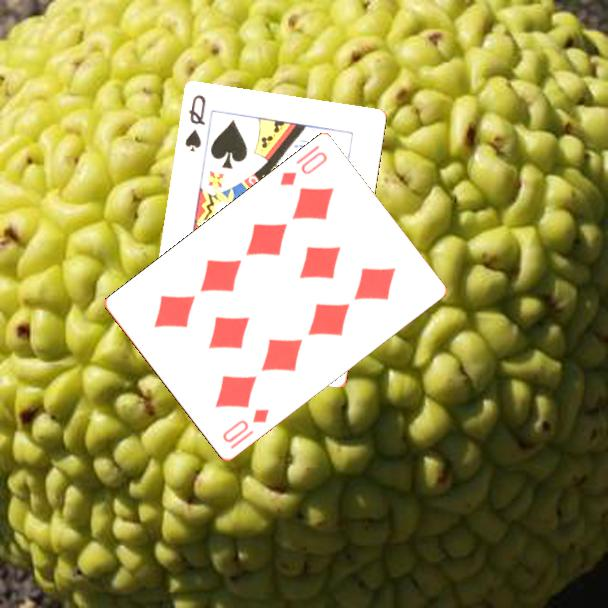d10: (276, 142, 330, 189), (219, 406, 272, 446)
s12: (182, 92, 209, 155)
